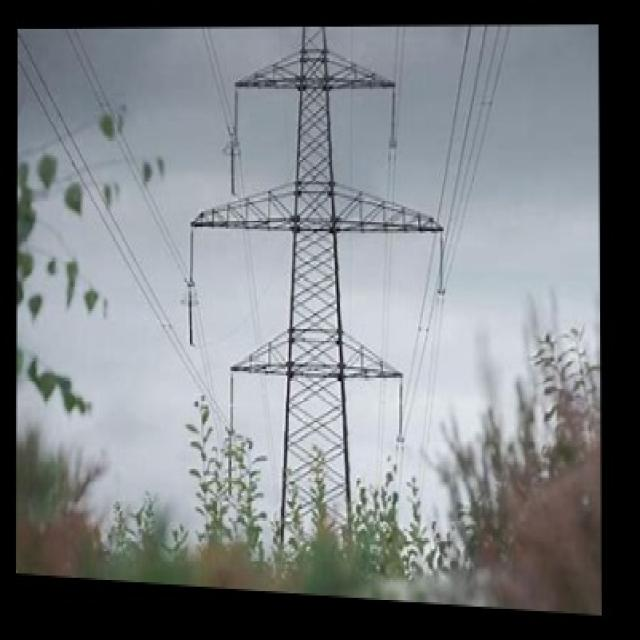utility poles: (170, 335, 447, 594)
